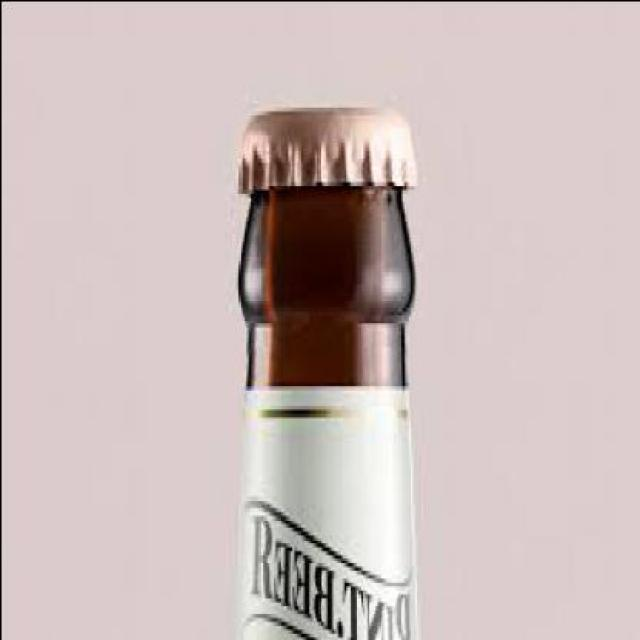GLASS: (236, 184, 418, 636)
METAL: (236, 102, 418, 185)
